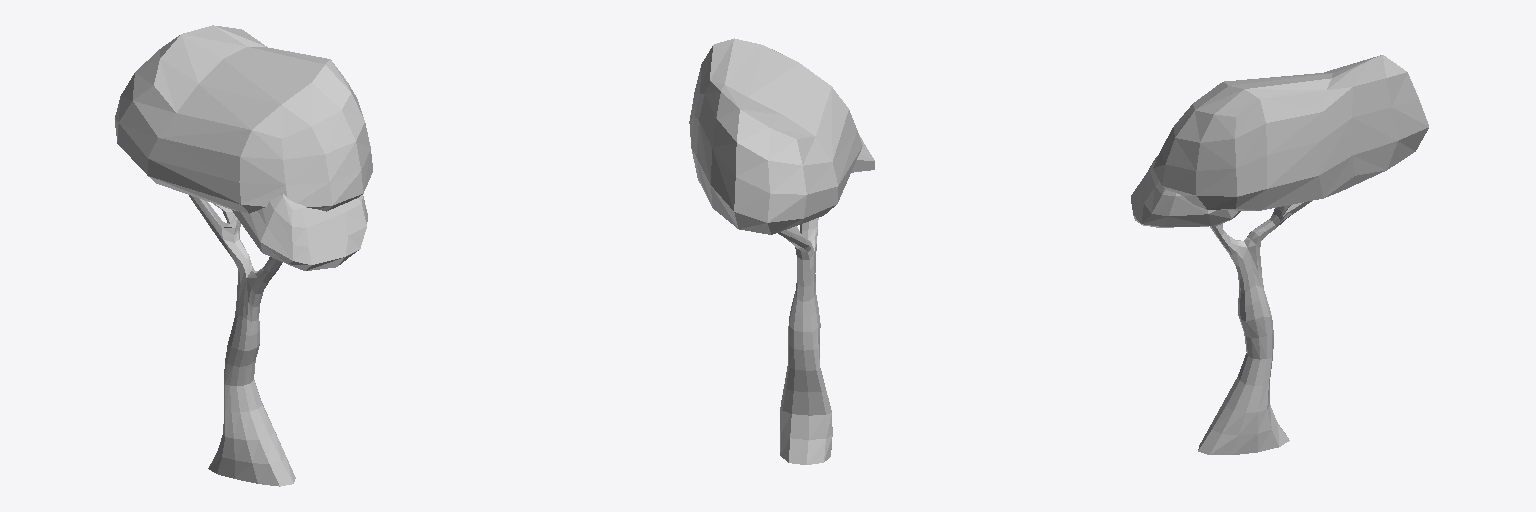
Rendered from Arbol_2 (1).obj.
3 renders of one model, left to right at view 1: azimuth 30°, elevation 25°; view 2: azimuth 150°, elevation 25°; view 3: azimuth 270°, elevation 25°, orthographic.
Bounding box in the file's own units: 3.36 × 7.09 × 4.87.